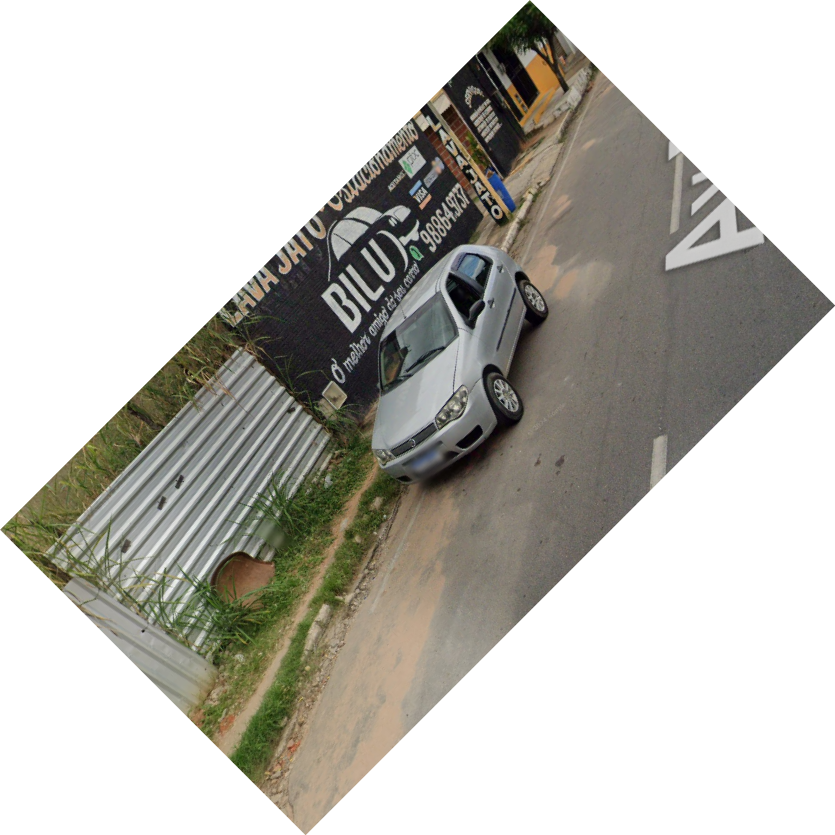car: (367, 240, 553, 489)
